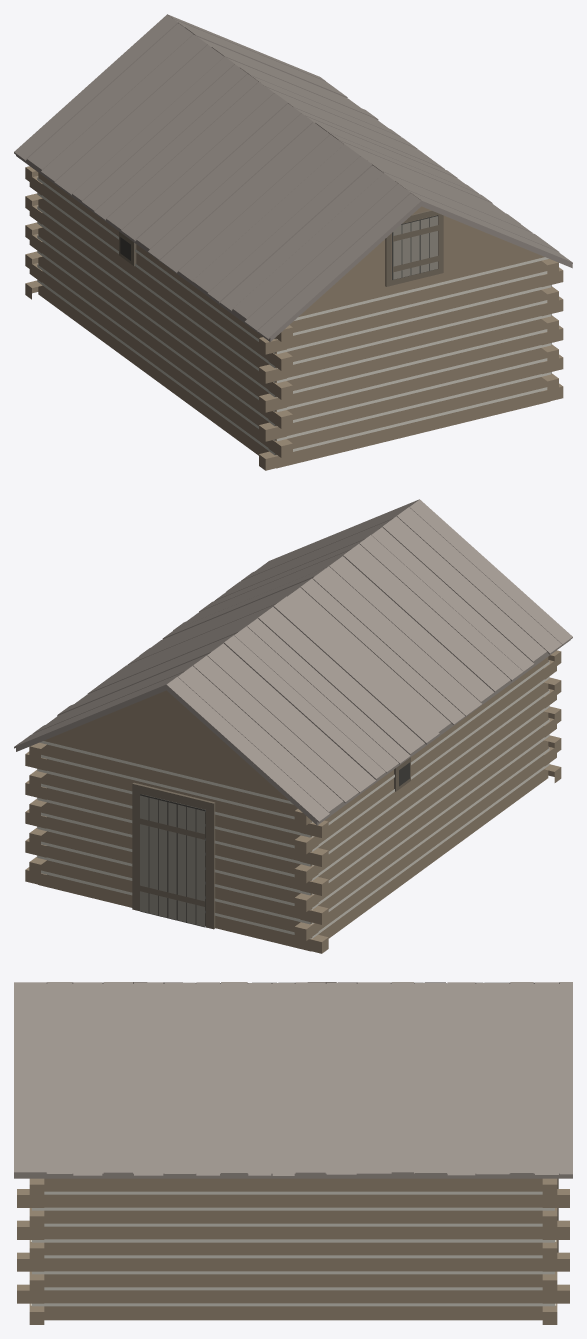
Rendered from recon_1835_blk_randolph_market_a1_07__inferred_1835.glb.
3 renders of one model, top to bottom at view 1: azimuth 30°, elevation 25°; view 2: azimuth 150°, elevation 25°; view 3: azimuth 270°, elevation 25°, orthographic. The views are drawn at different scales.
Visible parts, largest first — view 1: recon_1835_blk_randolph_market_a1_07__inferred_1835; view 2: recon_1835_blk_randolph_market_a1_07__inferred_1835; view 3: recon_1835_blk_randolph_market_a1_07__inferred_1835.
Boxes of the visible parts, left/top/right/bottom form: recon_1835_blk_randolph_market_a1_07__inferred_1835: left=14, top=14, right=572, bottom=470; recon_1835_blk_randolph_market_a1_07__inferred_1835: left=14, top=499, right=572, bottom=953; recon_1835_blk_randolph_market_a1_07__inferred_1835: left=14, top=982, right=572, bottom=1324.
Size of the model in its own units: 6.29 by 4.69 by 8.99.
